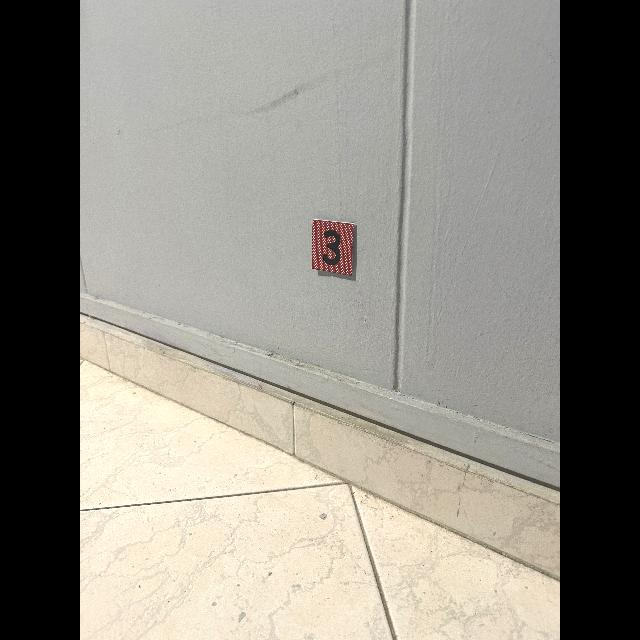Z: (322, 230, 341, 265)
